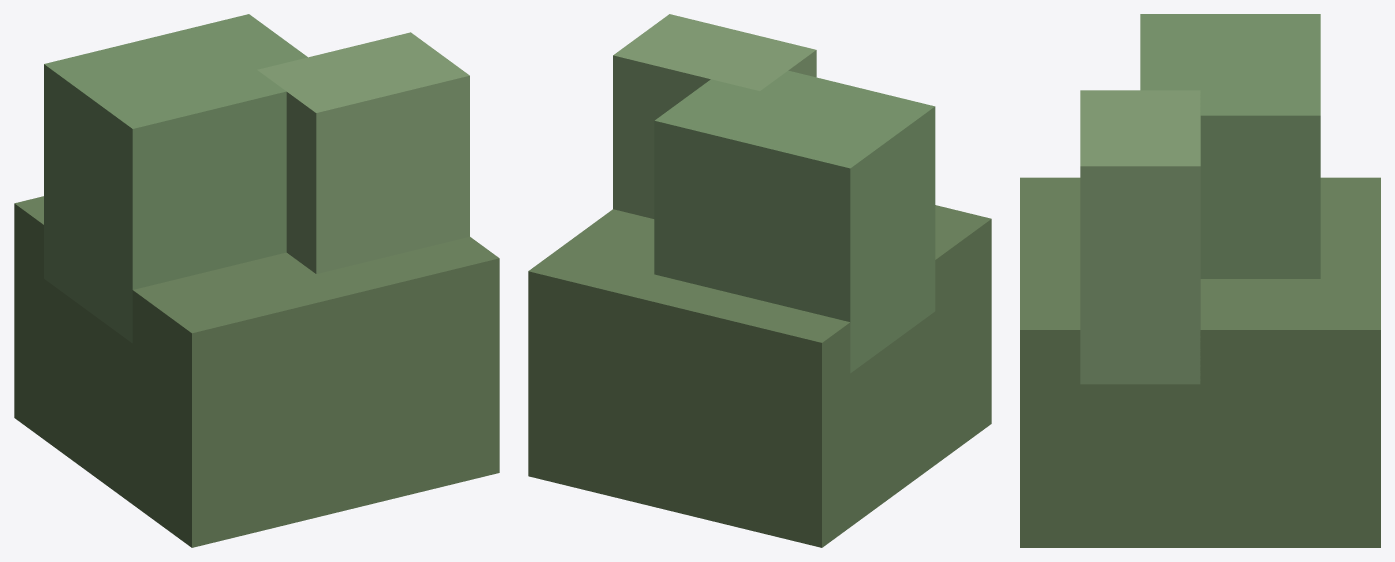
File: maceta_grande_01.glb
3 renders of one model, left to right at view 1: azimuth 30°, elevation 25°; view 2: azimuth 150°, elevation 25°; view 3: azimuth 270°, elevation 25°, orthographic. The views are drawn at different scales.
Visible parts, largest first — view 1: maceta_grande; view 2: maceta_grande; view 3: maceta_grande.
Part boxes in pixels (x1,y1,x2,y2): maceta_grande: (14, 14, 499, 547); maceta_grande: (528, 14, 991, 547); maceta_grande: (1020, 14, 1380, 547).
Bounding box in the file's own units: 0.6 × 0.7 × 0.6.
